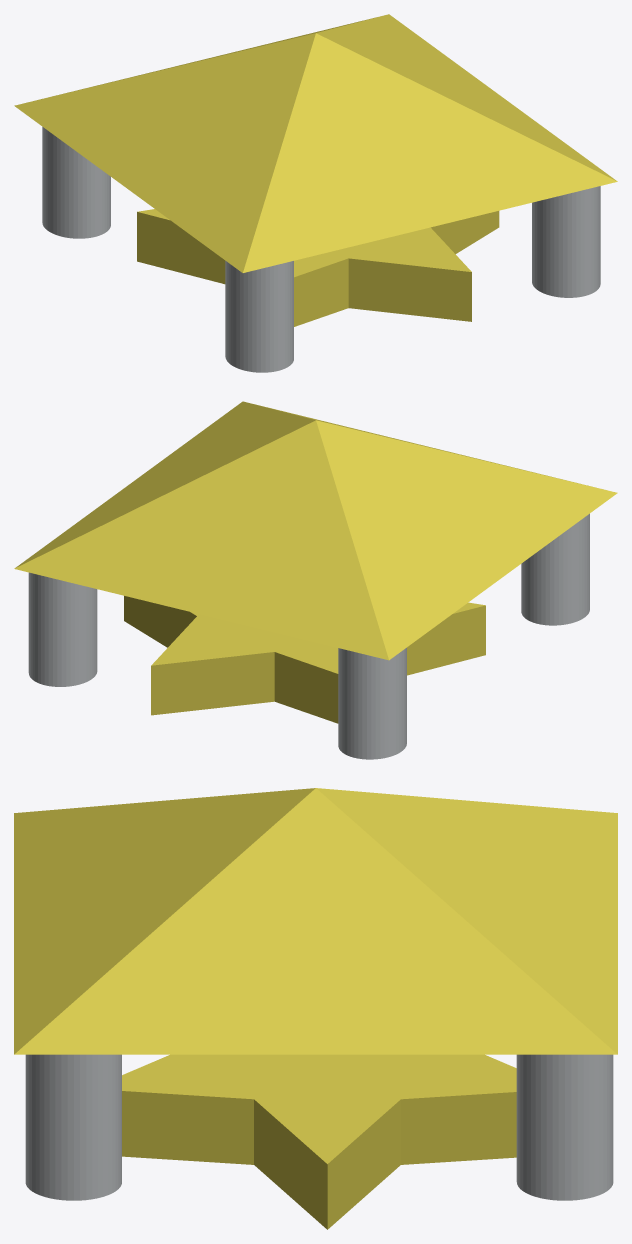
The model's file is Fabulous Kasi.glb.
3 views of the same model, one above another, from view 1: azimuth 30°, elevation 25°; view 2: azimuth 150°, elevation 25°; view 3: azimuth 270°, elevation 25° (orthographic). The views are drawn at different scales.
Visible parts, largest first — view 1: Mesh_Mesh_head_geo.001_lambert2SG.001; view 2: Mesh_Mesh_head_geo.001_lambert2SG.001; view 3: Mesh_Mesh_head_geo.001_lambert2SG.001.
Part boxes in pixels (x1=…): Mesh_Mesh_head_geo.001_lambert2SG.001: x1=14, y1=14, x2=617, y2=372; Mesh_Mesh_head_geo.001_lambert2SG.001: x1=14, y1=401, x2=617, y2=759; Mesh_Mesh_head_geo.001_lambert2SG.001: x1=14, y1=788, x2=617, y2=1229.
Bounding box in the file's own units: 0.071 × 0.044 × 0.075.
